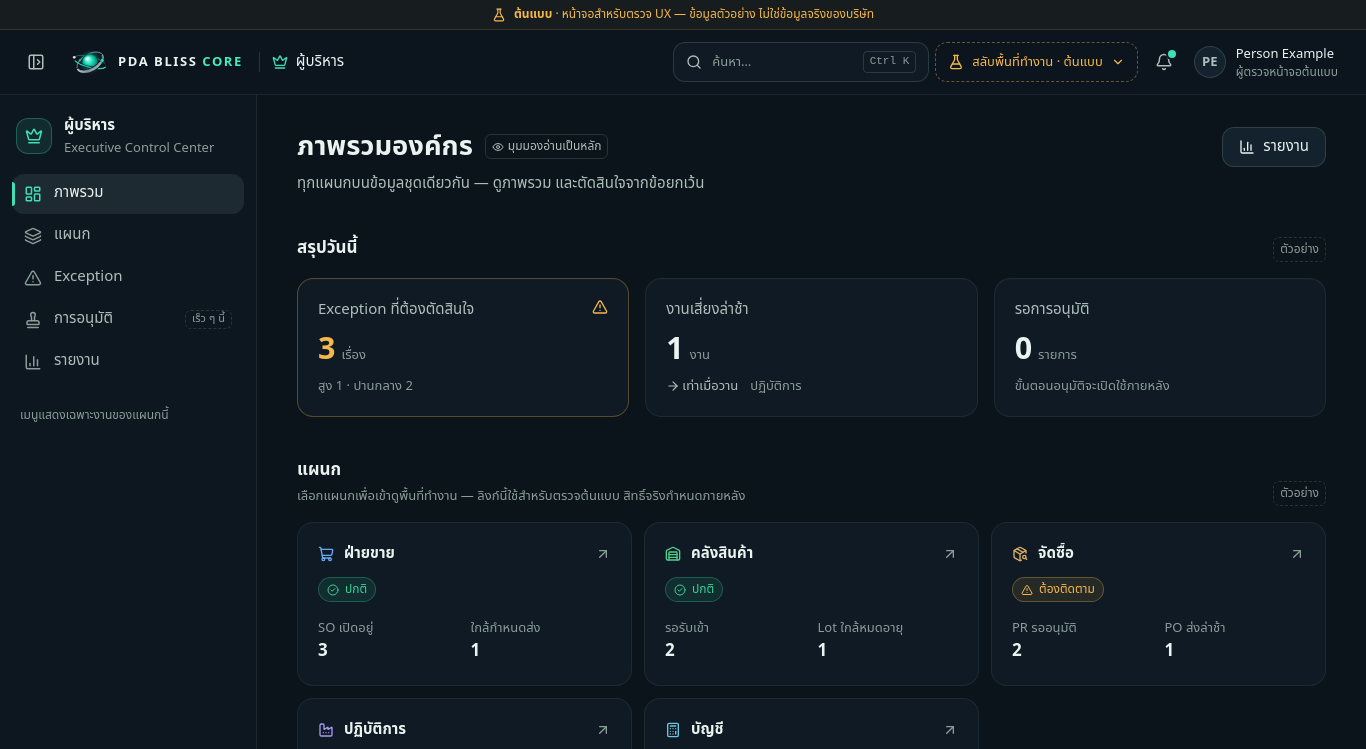
Test: prototype workspace switcher and real sign-out › switches between department workspaces
The width and height of the screenshot is (1366, 749).
Step 1. Click the button "สลับพื้นที่ทำงาน · ต้นแบบ" → (1037, 62), box top-left (935, 42), bottom-right (1138, 82)
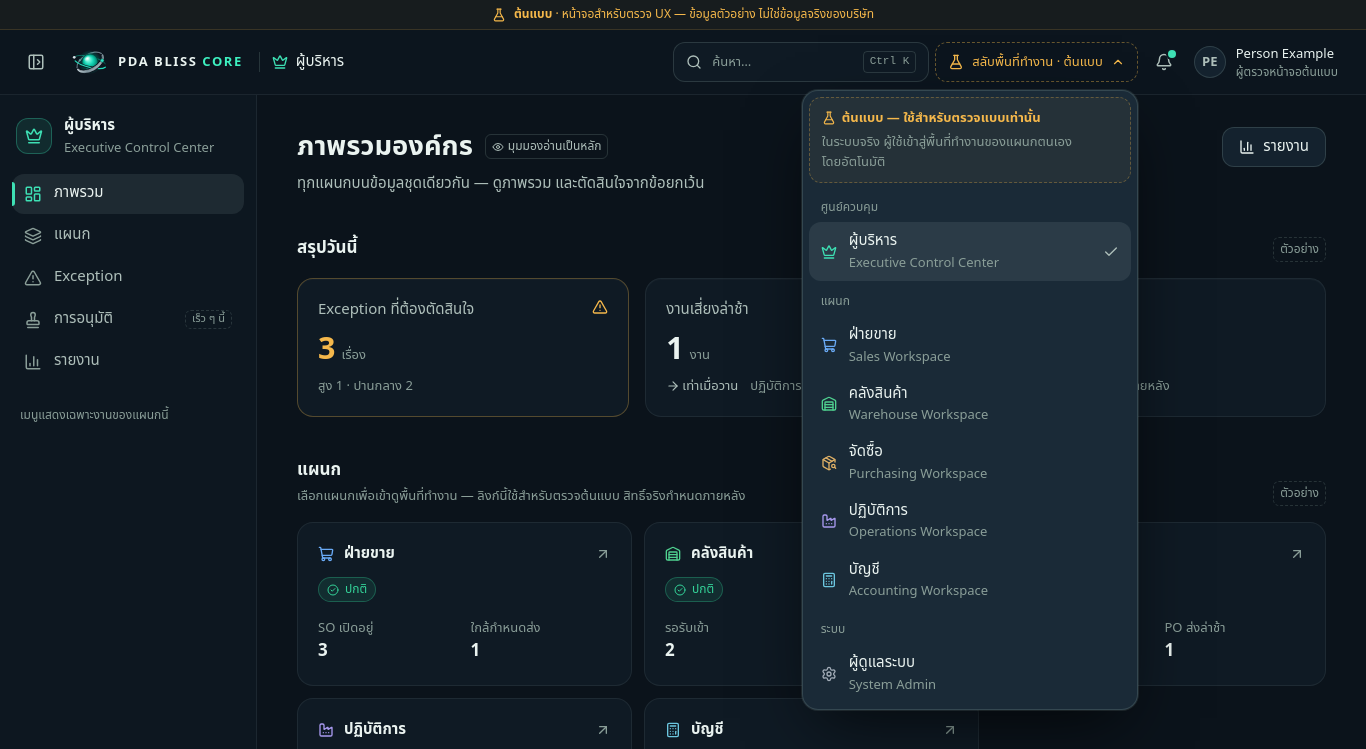
Step 2. Click the menu item "คลังสินค้า Warehouse Workspace" → (970, 404), box top-left (809, 375), bottom-right (1131, 433)
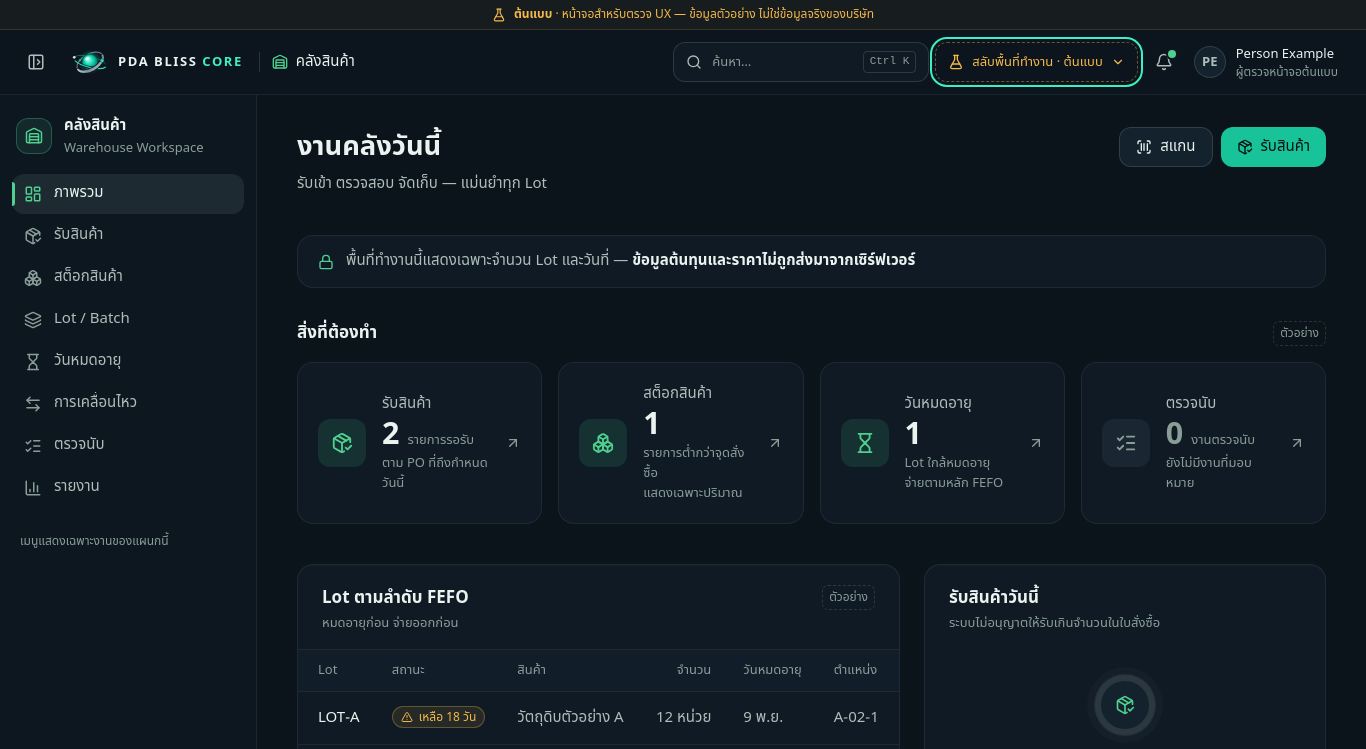
Expected: the heading "งานคลังวันนี้" is shown, top-left (297, 127), bottom-right (441, 167)
